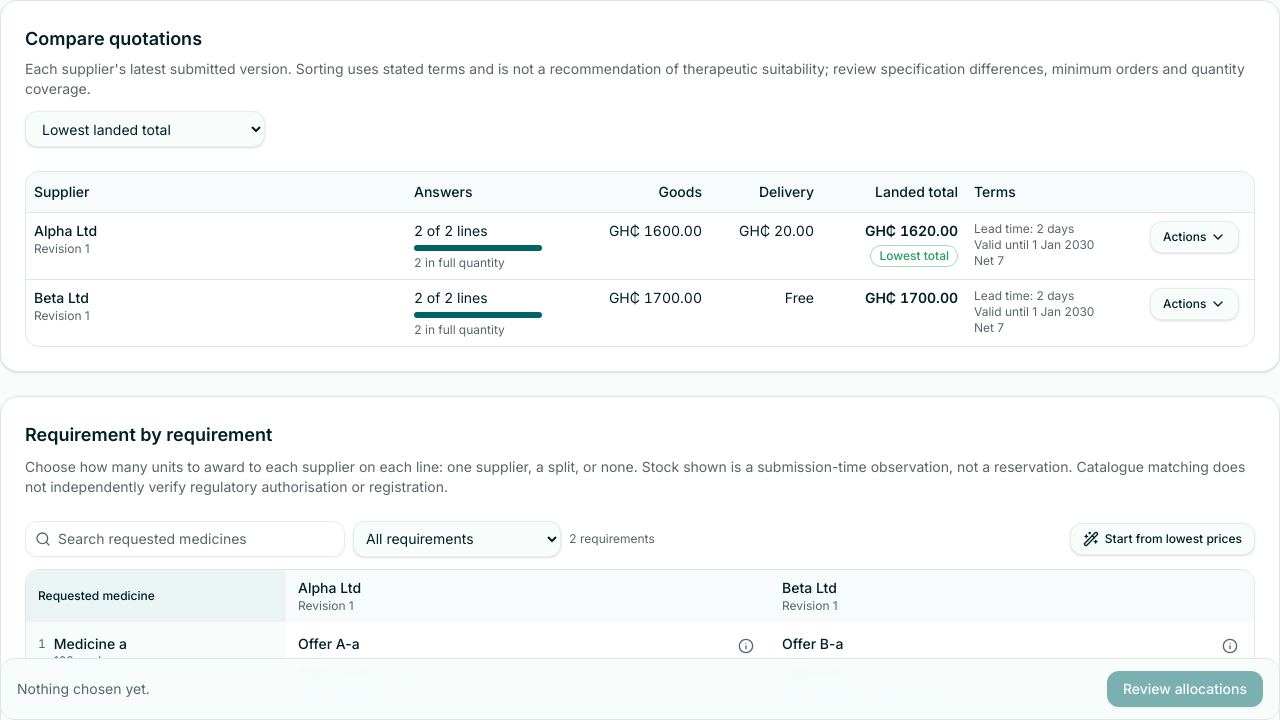
Test: fills a cheapest-first starting point and totals it with each supplier's delivery
Click the button "Start from lowest prices" at (1162, 538), box [1070,522,1255,554]
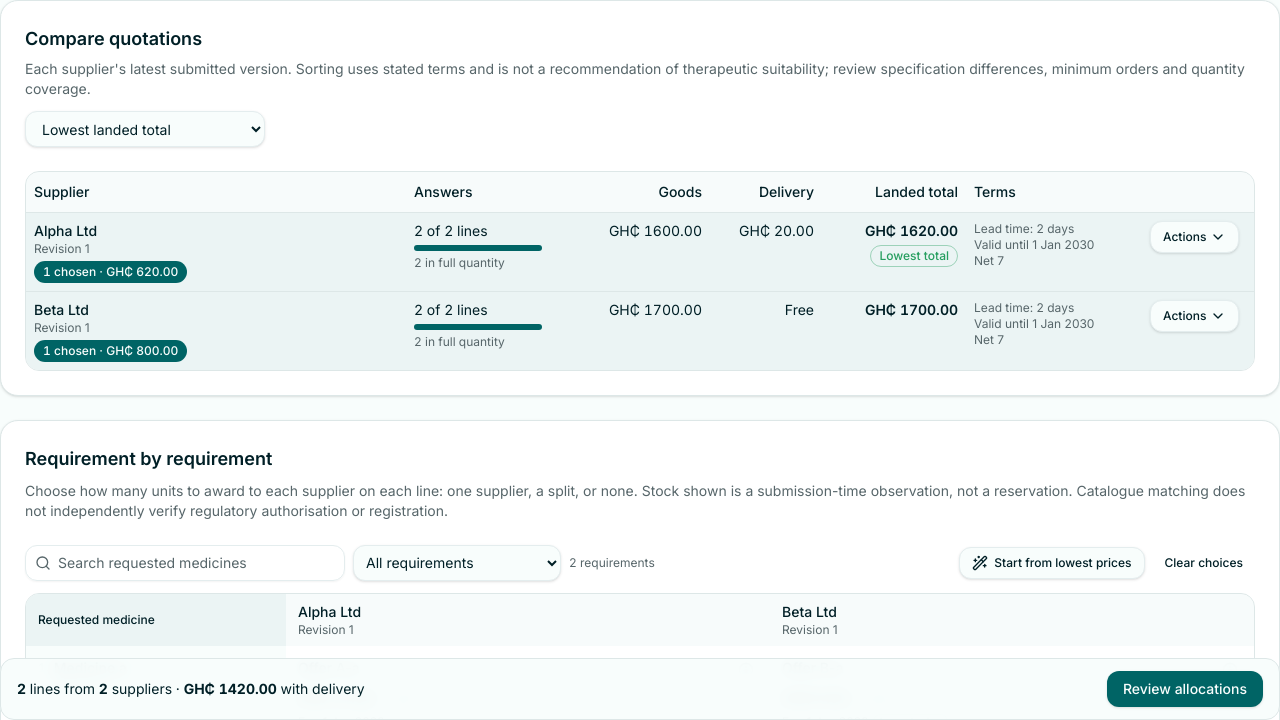
Expected: the text "2 lines from 2 suppliers" is shown, [17,680,365,697]
Expected: the text "1420.00" is shown, [184,680,277,697]
